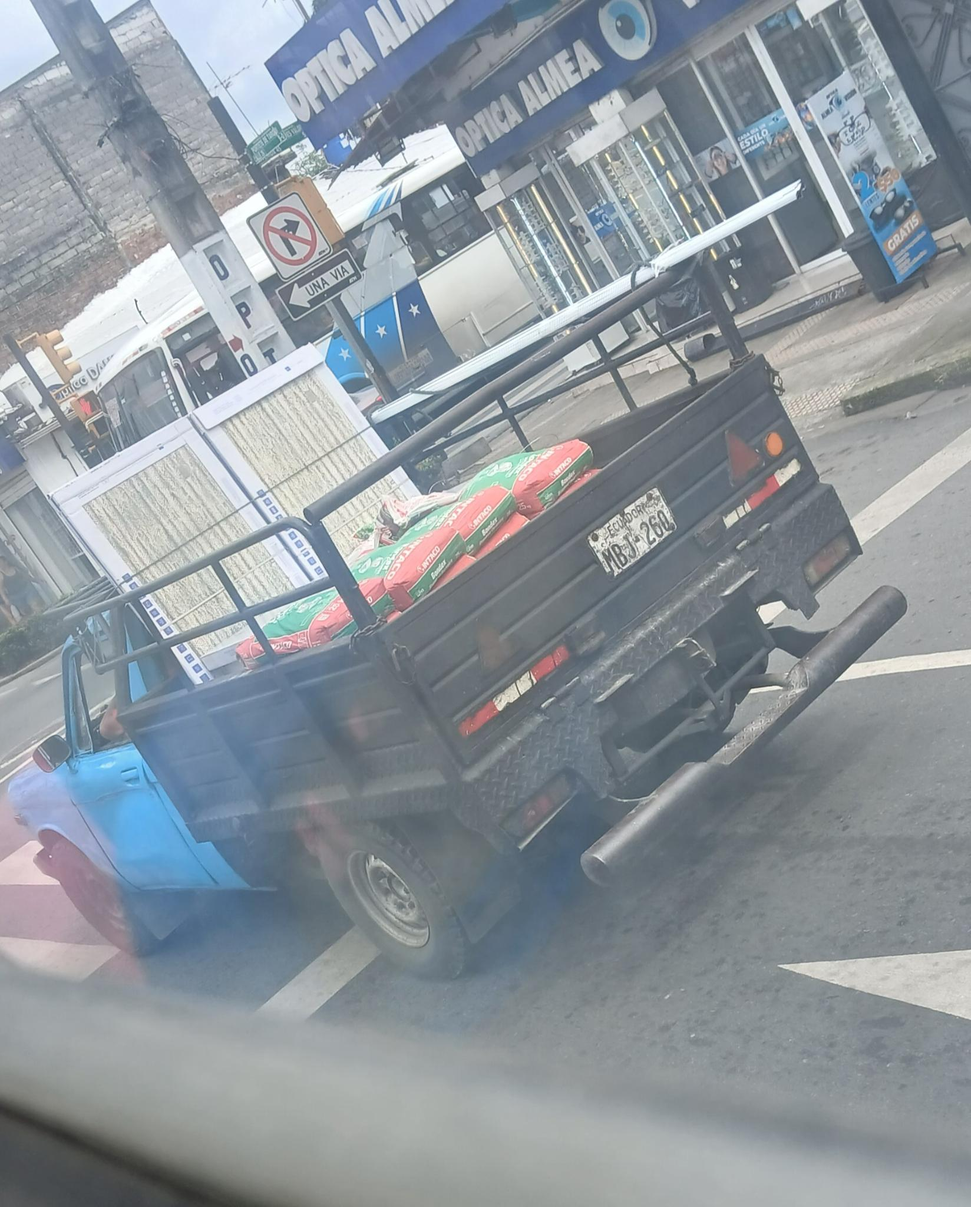license_plate: (587, 486, 672, 577)
